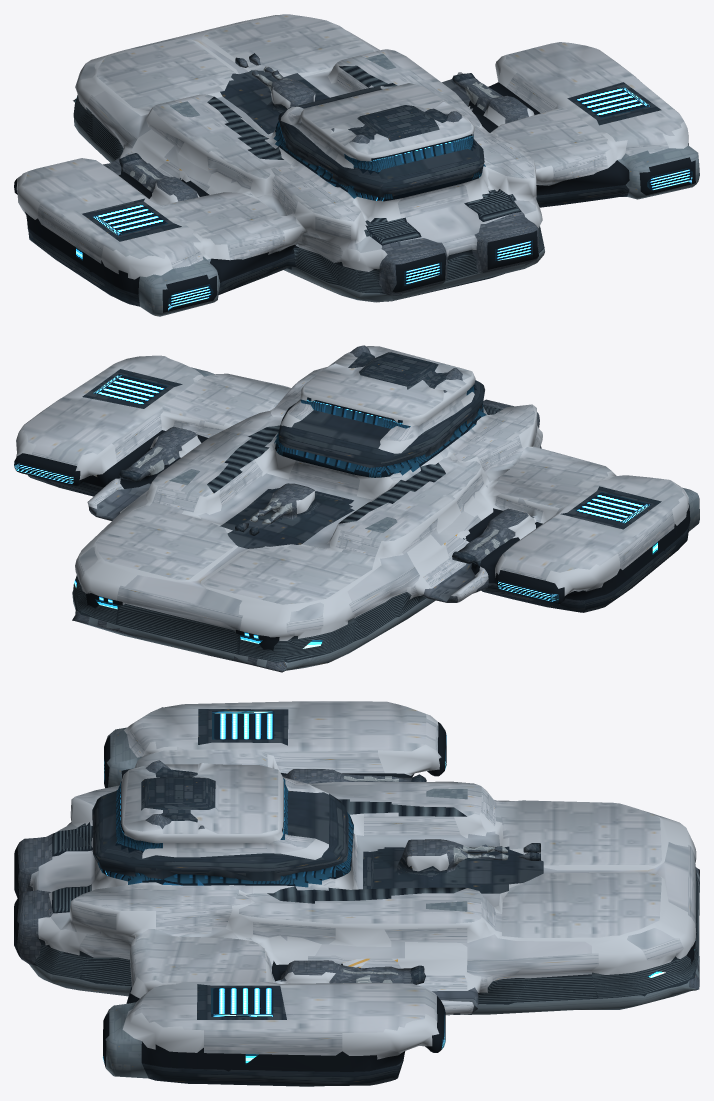
The model's file is alliance_destroyer_recreated_lod1.glb.
The picture shows the model from 3 angles, top to bottom: view 1: azimuth 30°, elevation 25°; view 2: azimuth 150°, elevation 25°; view 3: azimuth 270°, elevation 25°; orthographic projection. The views are drawn at different scales.
Visible parts, largest first — view 1: Alliance Destroyer | Horizon; view 2: Alliance Destroyer | Horizon; view 3: Alliance Destroyer | Horizon.
Part boxes in pixels (bbox=[...]): Alliance Destroyer | Horizon: bbox=[14, 14, 699, 316]; Alliance Destroyer | Horizon: bbox=[14, 345, 699, 672]; Alliance Destroyer | Horizon: bbox=[14, 701, 699, 1086].
Size of the model in its own units: 1.42 by 0.3234 by 1.23.
Materials: 1 (1 with a texture image).
